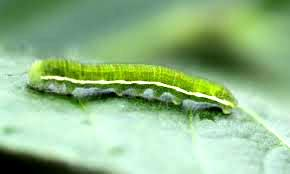Caterpillar: (27, 53, 242, 122)
